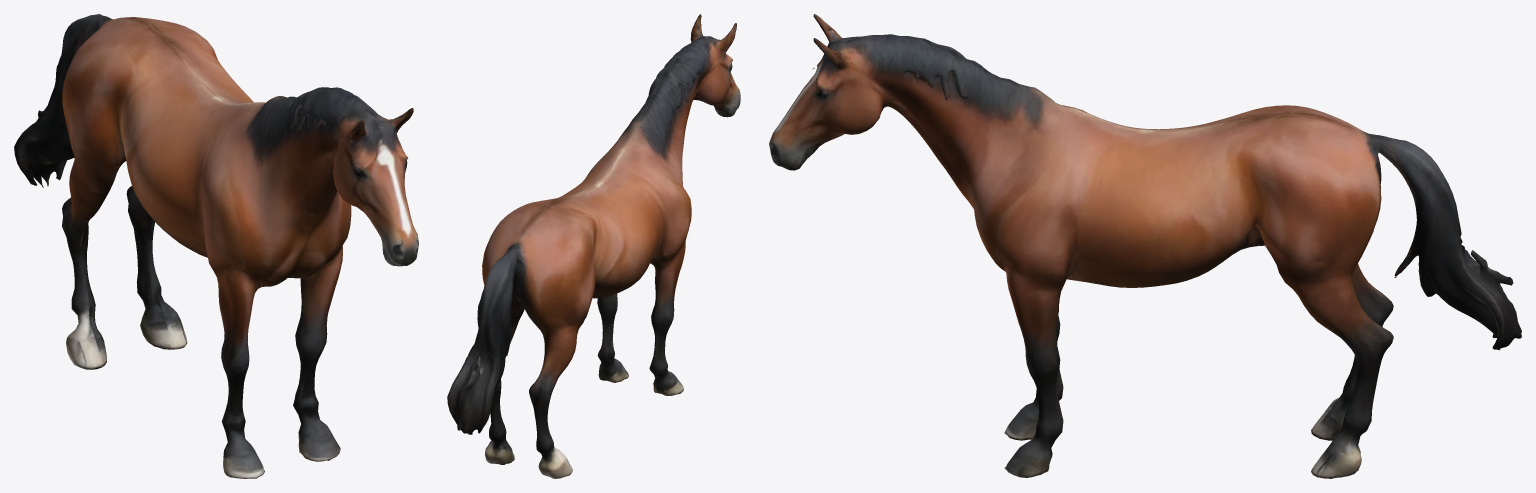
Rendered from beast-horse.glb.
3 renders of one model, left to right at view 1: azimuth 30°, elevation 25°; view 2: azimuth 150°, elevation 25°; view 3: azimuth 270°, elevation 25°, orthographic. The views are drawn at different scales.
Size of the model in its own units: 0.4229 by 1.24 by 1.98.
1 material, 1 textured.
